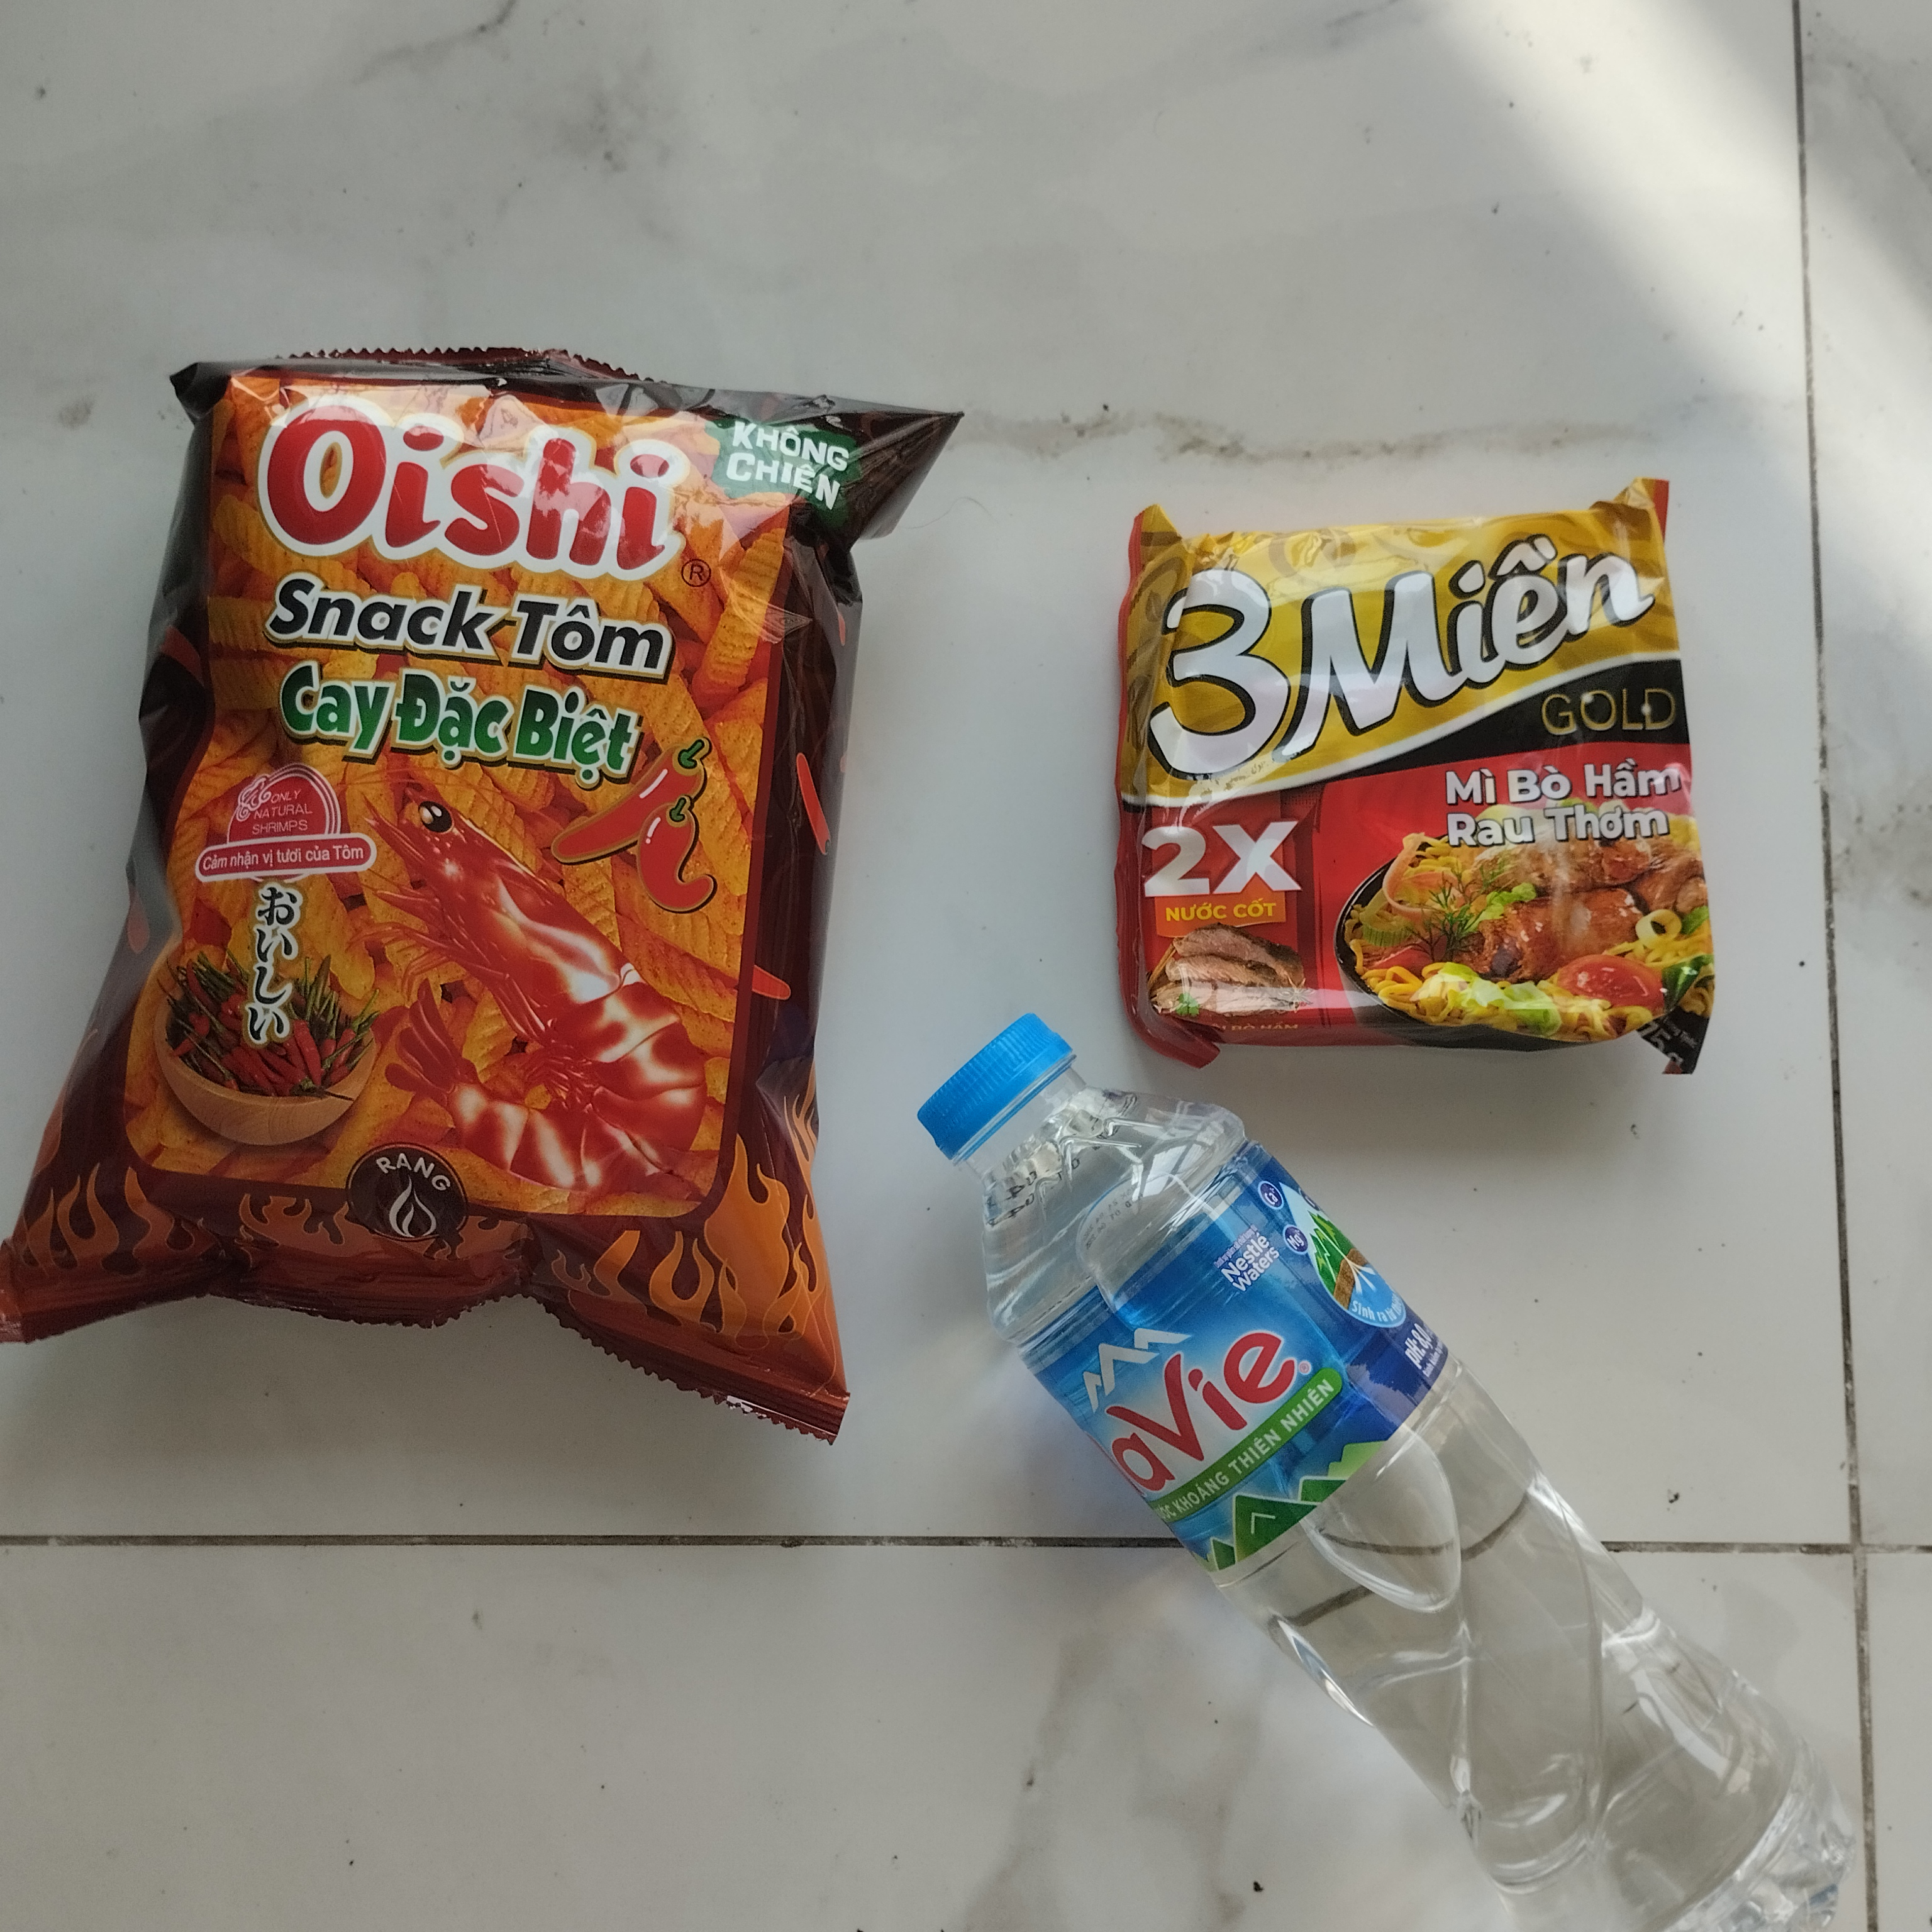3mien: (1088, 472, 1730, 1083)
Lavie: (927, 1010, 1875, 1932)
Oishi_Cay: (2, 288, 957, 1447)
